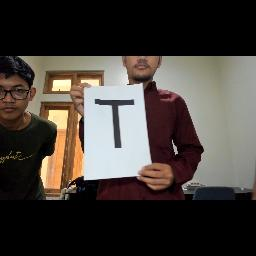t: (92, 92, 138, 158)
